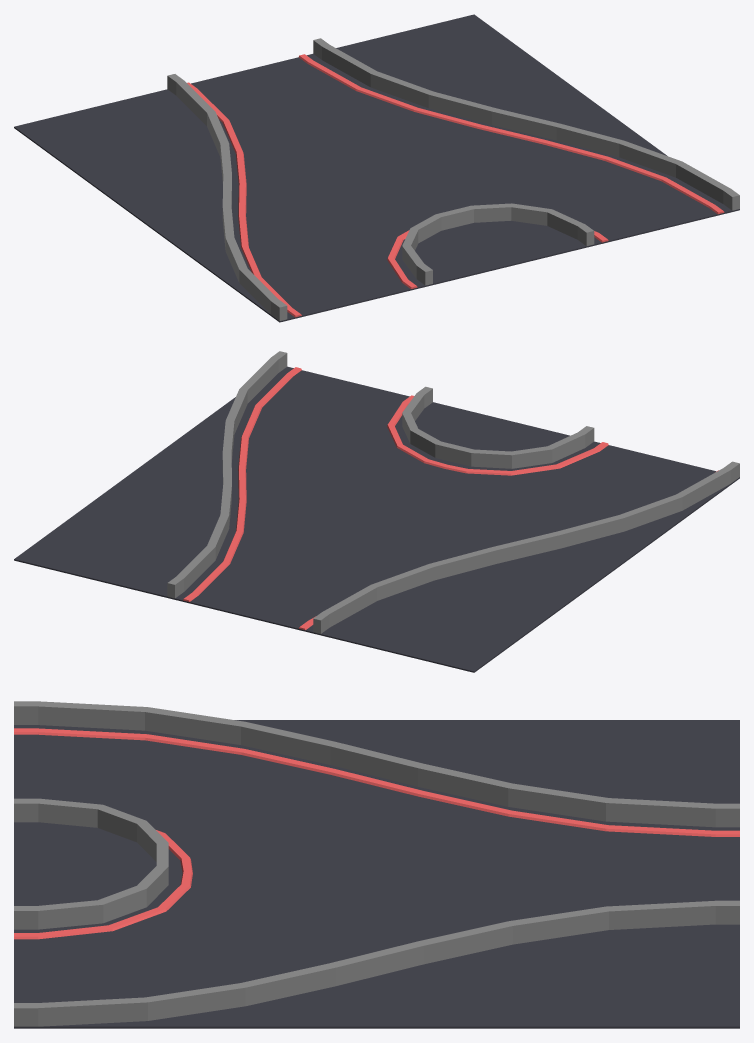
File: kartkids_base_trk_140_jct_ysplit_3x3.glb
The picture shows the model from 3 angles, top to bottom: view 1: azimuth 30°, elevation 25°; view 2: azimuth 150°, elevation 25°; view 3: azimuth 270°, elevation 25°; orthographic projection. The views are drawn at different scales.
Parts seen in each view (by area): view 1: kartkids_base_trk_010_rd_straight_1x1.044, kartkids_base_trk_020_trn_90_l_1x1.040, kartkids_base_trk_020_trn_90_l_1x1.039, kartkids_base_trk_020_trn_90_l_1x1.043, kartkids_base_trk_020_trn_90_l_1x1.044; view 2: kartkids_base_trk_010_rd_straight_1x1.044, kartkids_base_trk_020_trn_90_l_1x1.040, kartkids_base_trk_020_trn_90_l_1x1.043, kartkids_base_trk_020_trn_90_l_1x1.039, kartkids_base_trk_020_trn_90_l_1x1.044; view 3: kartkids_base_trk_010_rd_straight_1x1.044, kartkids_base_trk_020_trn_90_l_1x1.040, kartkids_base_trk_020_trn_90_l_1x1.043, kartkids_base_trk_020_trn_90_l_1x1.039, kartkids_base_trk_020_trn_90_l_1x1.044.
Part boxes in pixels (x1=…): kartkids_base_trk_010_rd_straight_1x1.044: x1=14, y1=14, x2=739, y2=322; kartkids_base_trk_020_trn_90_l_1x1.040: x1=167, y1=38, x2=739, y2=320; kartkids_base_trk_020_trn_90_l_1x1.039: x1=187, y1=54, x2=724, y2=317; kartkids_base_trk_020_trn_90_l_1x1.043: x1=402, y1=203, x2=594, y2=285; kartkids_base_trk_020_trn_90_l_1x1.044: x1=387, y1=230, x2=608, y2=288; kartkids_base_trk_010_rd_straight_1x1.044: x1=14, y1=366, x2=739, y2=672; kartkids_base_trk_020_trn_90_l_1x1.040: x1=167, y1=351, x2=739, y2=633; kartkids_base_trk_020_trn_90_l_1x1.043: x1=402, y1=386, x2=594, y2=468; kartkids_base_trk_020_trn_90_l_1x1.039: x1=183, y1=367, x2=718, y2=630; kartkids_base_trk_020_trn_90_l_1x1.044: x1=387, y1=395, x2=608, y2=475; kartkids_base_trk_010_rd_straight_1x1.044: x1=14, y1=720, x2=739, y2=1028; kartkids_base_trk_020_trn_90_l_1x1.040: x1=14, y1=701, x2=739, y2=1026; kartkids_base_trk_020_trn_90_l_1x1.043: x1=14, y1=798, x2=168, y2=929; kartkids_base_trk_020_trn_90_l_1x1.039: x1=14, y1=728, x2=739, y2=836; kartkids_base_trk_020_trn_90_l_1x1.044: x1=14, y1=830, x2=192, y2=939.
Bounding box in the file's own units: 30 × 0.9339 × 30.
